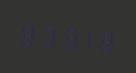eight: (18, 15, 37, 50), (98, 22, 117, 57)
nine: (58, 19, 77, 53)
one: (78, 20, 97, 55)
three: (38, 17, 57, 52)
